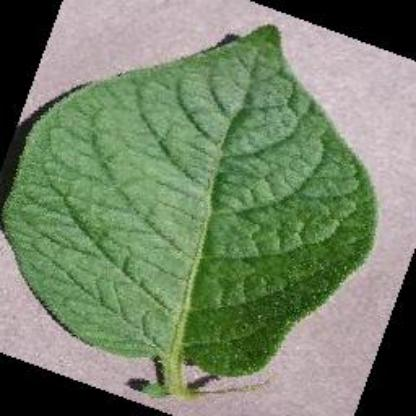Healthy-plant: (9, 17, 385, 407)
